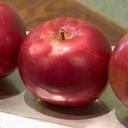apple: (108, 32, 128, 108)
